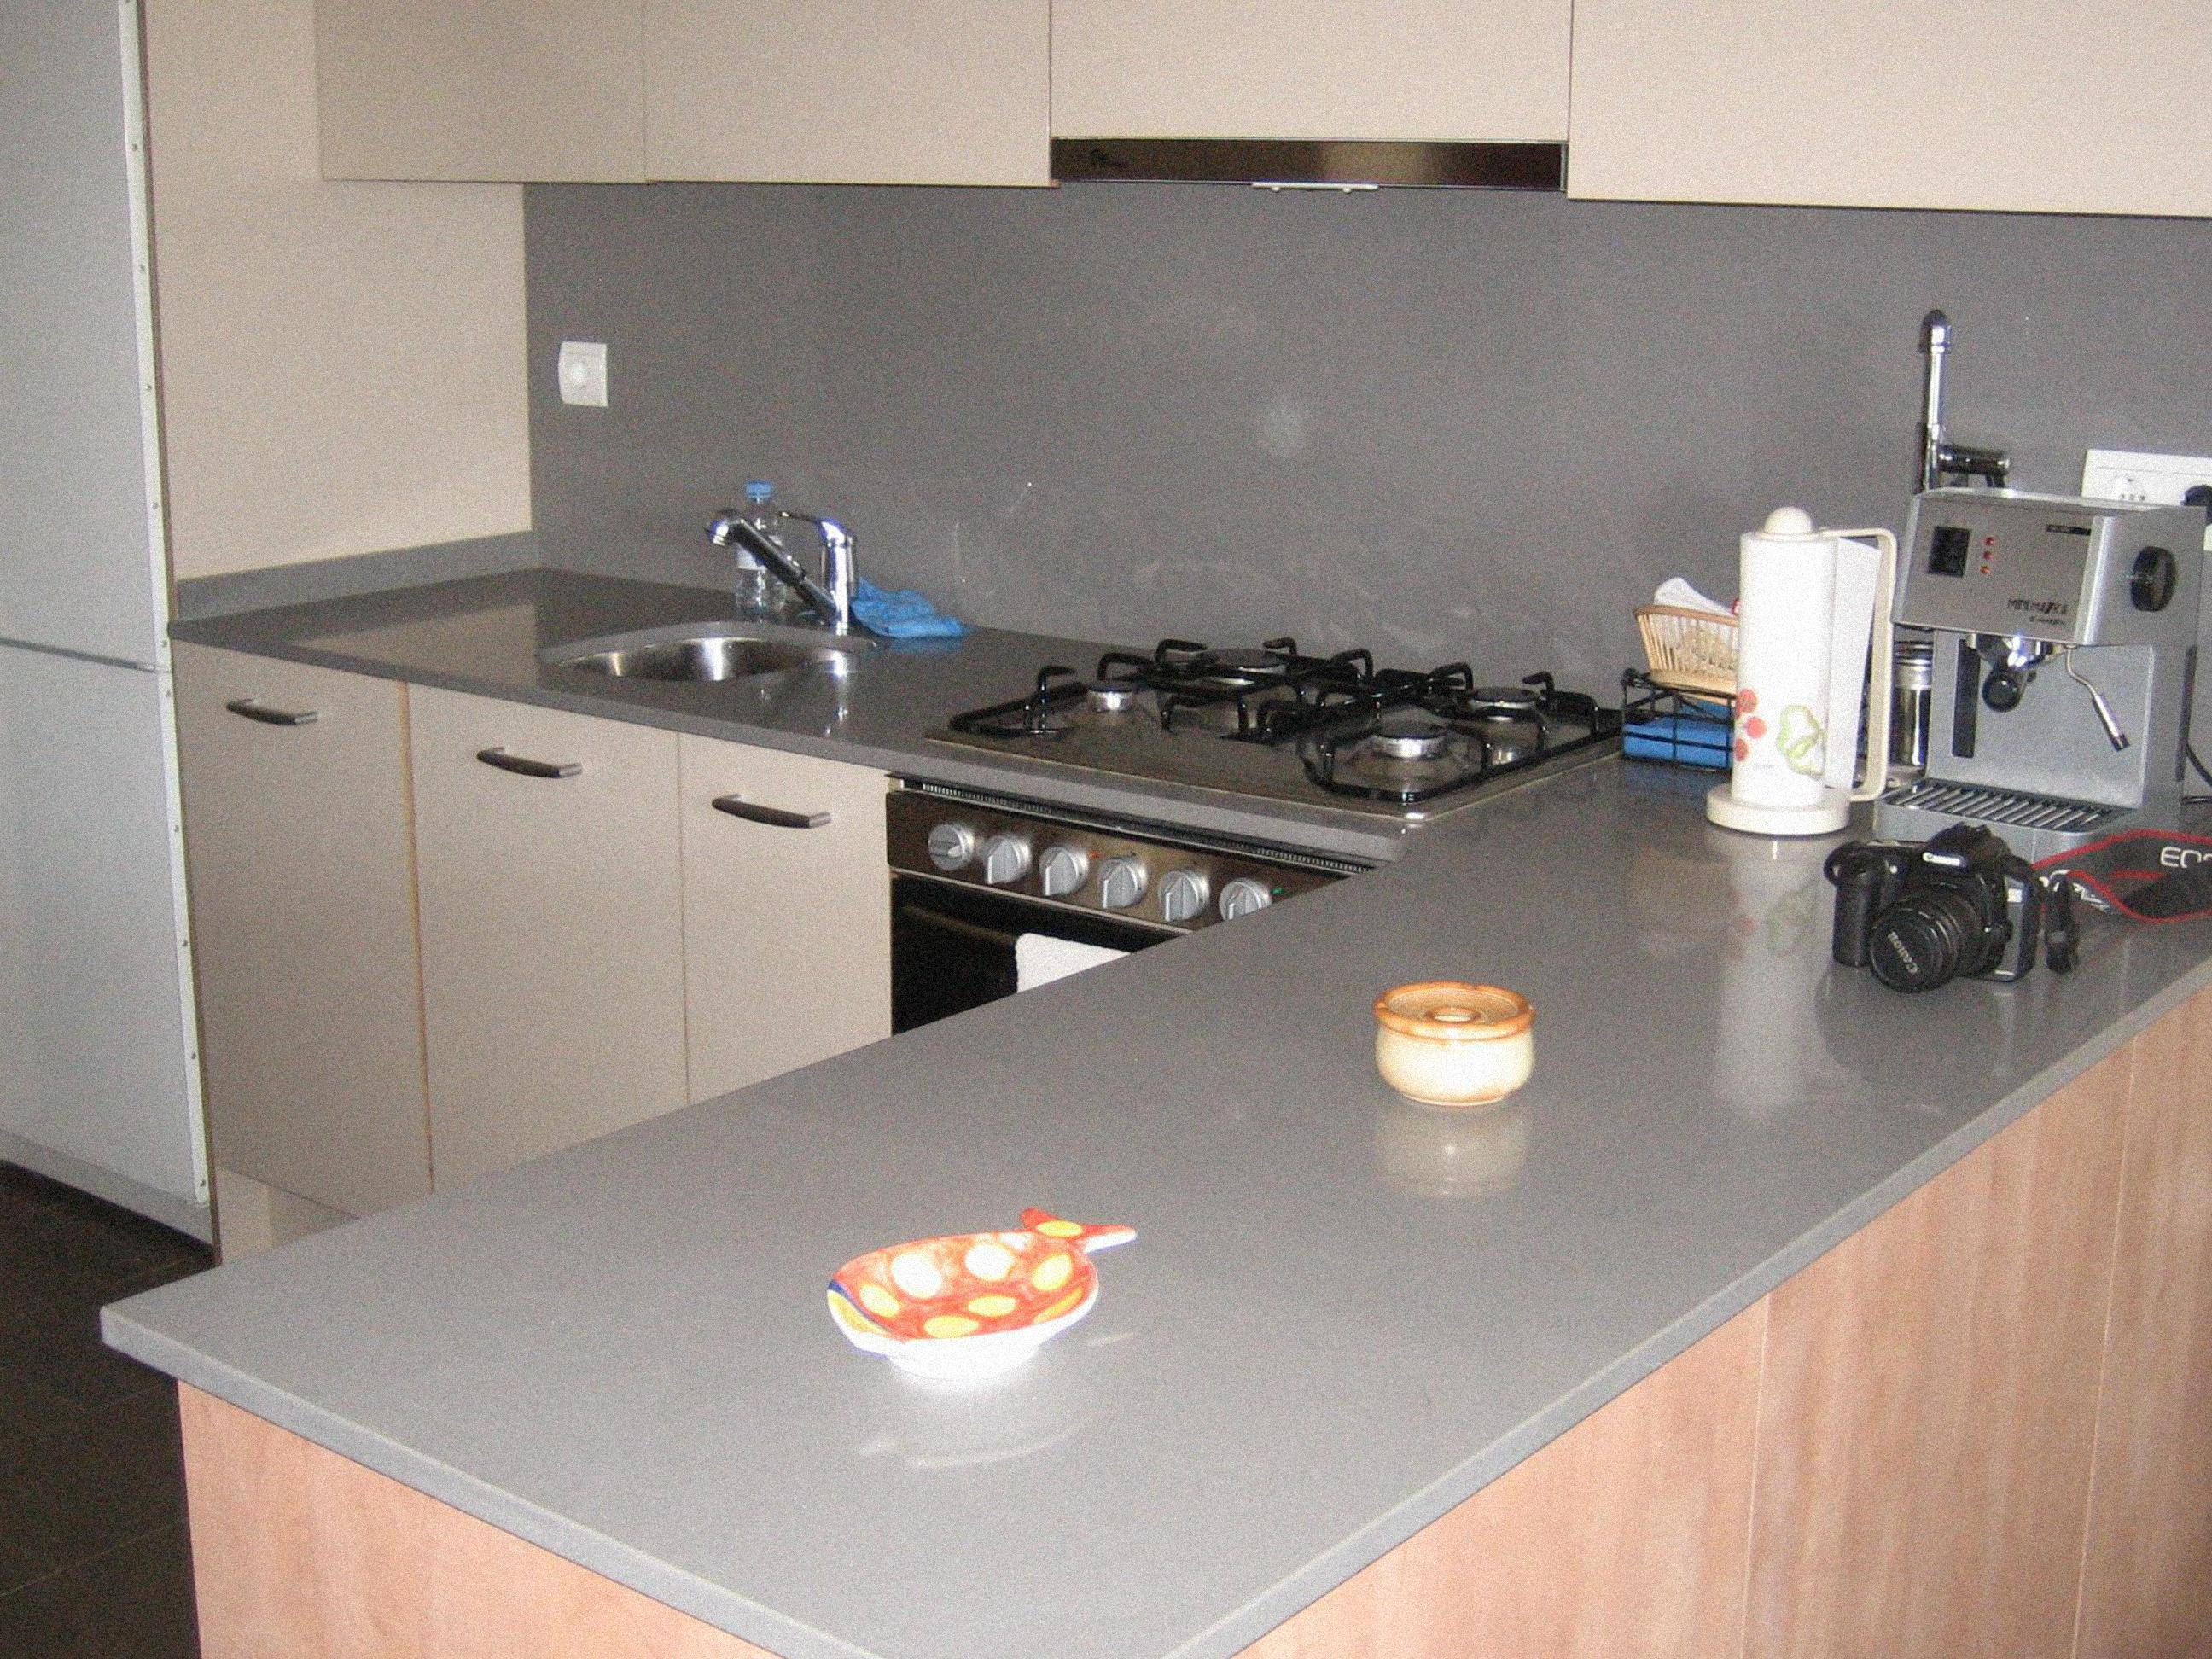Bote de Basura: (887, 629, 1602, 1413)
Electrodomestico: (1712, 441, 2212, 988), (0, 0, 158, 1202), (594, 498, 888, 706)
